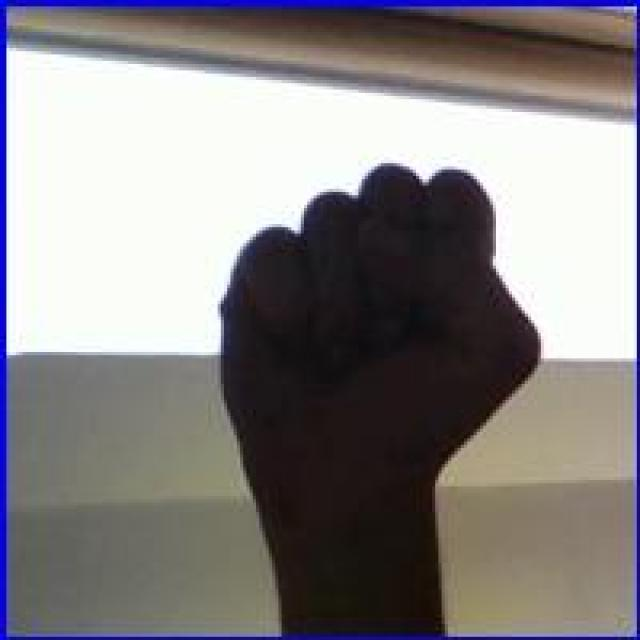S: (208, 158, 550, 485)
